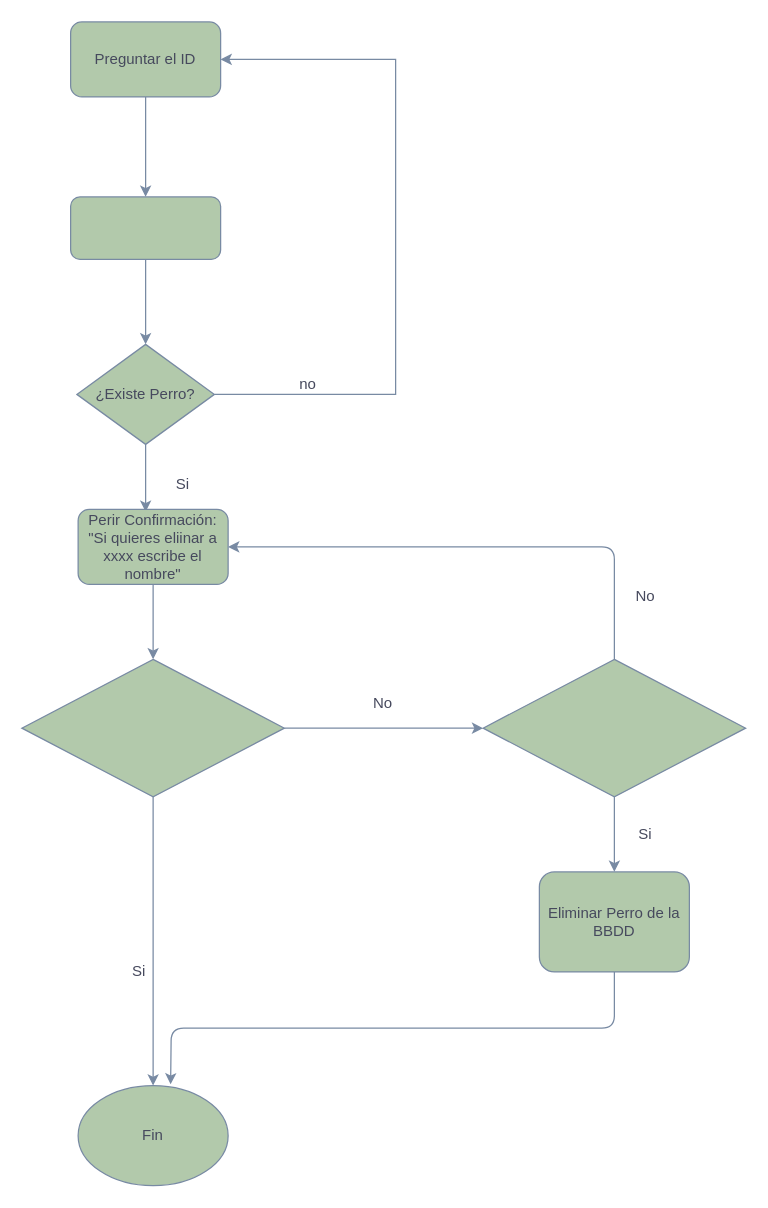
Some shapes in this 768 by 1208 pixel diagram are drawn without their labels. Each missing label, with the centre of its shape:
"Obtener Perro por ID" goes at point (145, 227).
"¿Has escrito el nombre del perro a Eliminar?" goes at point (614, 727).
"¿Quieres Salir?" goes at point (152, 727).
